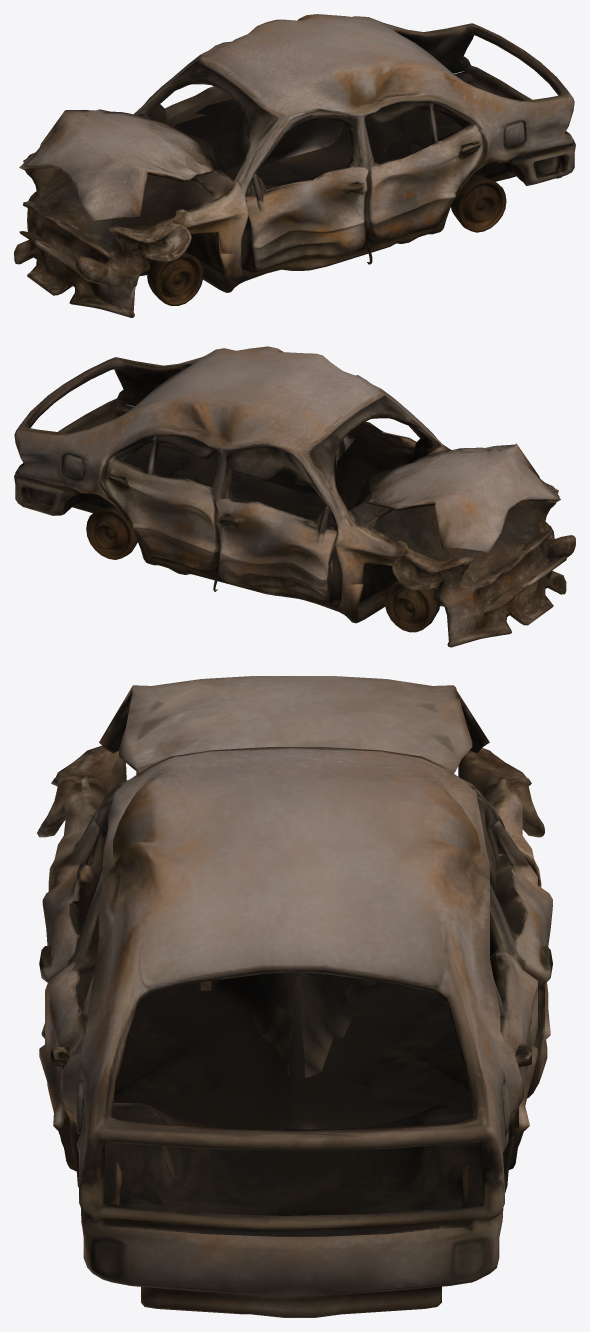
File: BrokenCar.fbx
3 renders of one model, top to bottom at view 1: azimuth 30°, elevation 25°; view 2: azimuth 150°, elevation 25°; view 3: azimuth 270°, elevation 25°, orthographic. The views are drawn at different scales.
Visible parts, largest first — view 1: BrokenCar_Baked; view 2: BrokenCar_Baked; view 3: BrokenCar_Baked.
Boxes of the visible parts, x1,y1,x2,y2 form: BrokenCar_Baked: (14,14,575,317); BrokenCar_Baked: (14,346,575,647); BrokenCar_Baked: (37,676,552,1317).
Bounding box in the file's own units: 5.8 × 2.63 × 2.05.
Materials: 1 (1 with a texture image).
